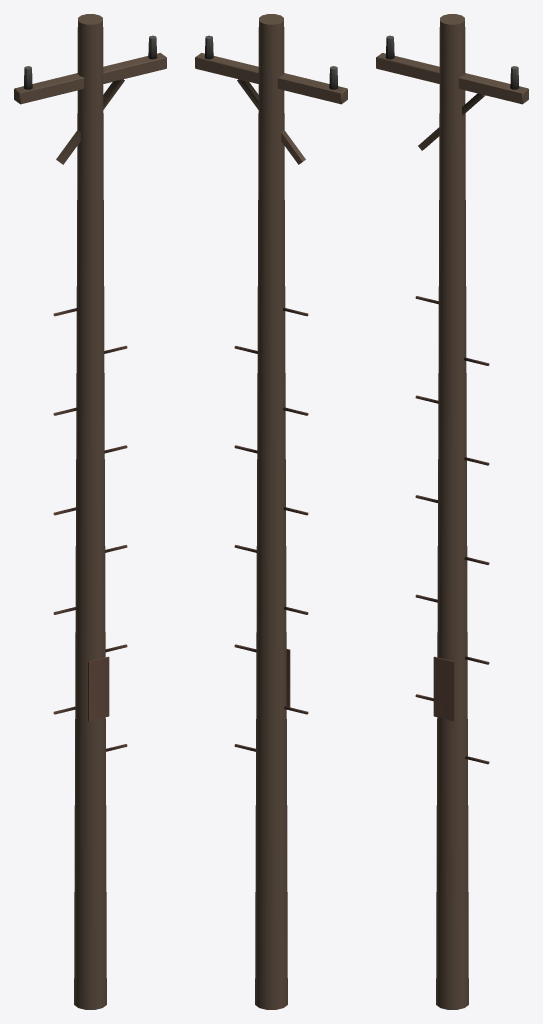
The model's file is prop.utility_pole.glb.
3 renders of one model, left to right at view 1: azimuth 30°, elevation 25°; view 2: azimuth 150°, elevation 25°; view 3: azimuth 330°, elevation 25°, orthographic.
Visible parts, largest first — view 1: LOD0; view 2: LOD0; view 3: LOD0.
Part boxes in pixels (x1=…): LOD0: x1=14, y1=14, x2=166, y2=1009; LOD0: x1=195, y1=14, x2=347, y2=1009; LOD0: x1=376, y1=14, x2=528, y2=1009.
Size of what is drawn, in the model's own units: 1.3 by 8.3 by 0.2566.
